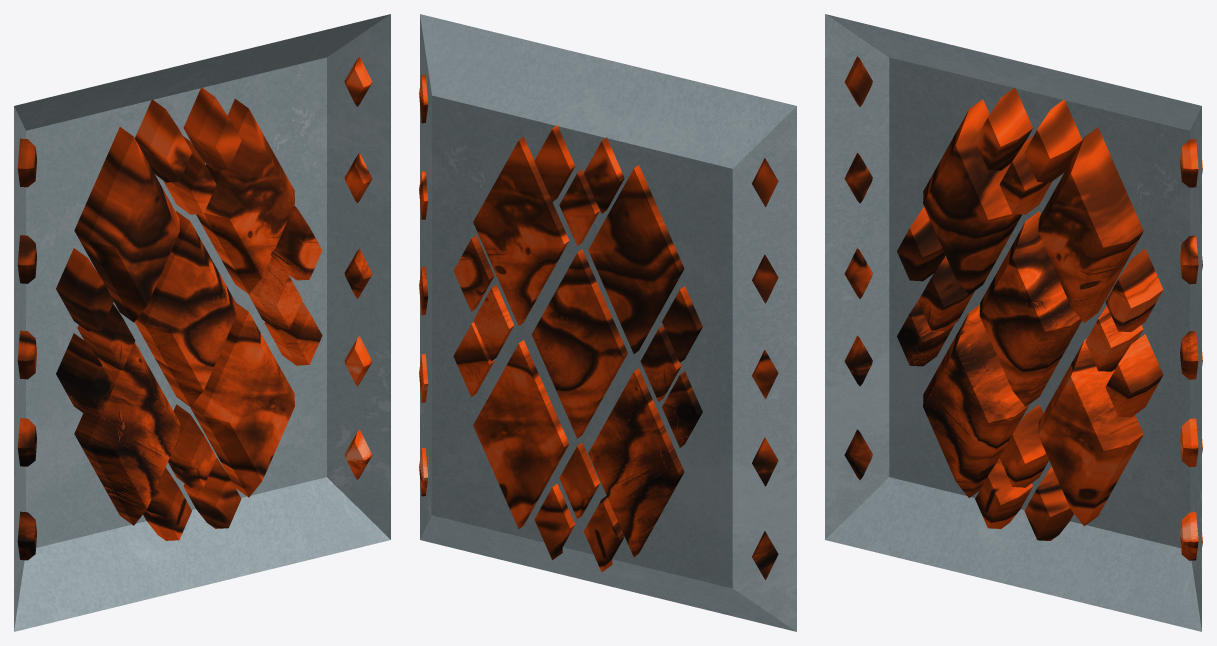
Rendered from StraightWall_Cubes.fbx.
3 renders of one model, left to right at view 1: azimuth 30°, elevation 25°; view 2: azimuth 150°, elevation 25°; view 3: azimuth 330°, elevation 25°, orthographic.
Visible parts, largest first — view 1: pPlane2; view 2: pPlane2; view 3: pPlane2.
Boxes of the visible parts, x1,y1,x2,y2 form: pPlane2: [14, 14, 390, 631]; pPlane2: [419, 14, 796, 631]; pPlane2: [825, 14, 1202, 631].
Bounding box in the file's own units: 3 × 4 × 0.446.
